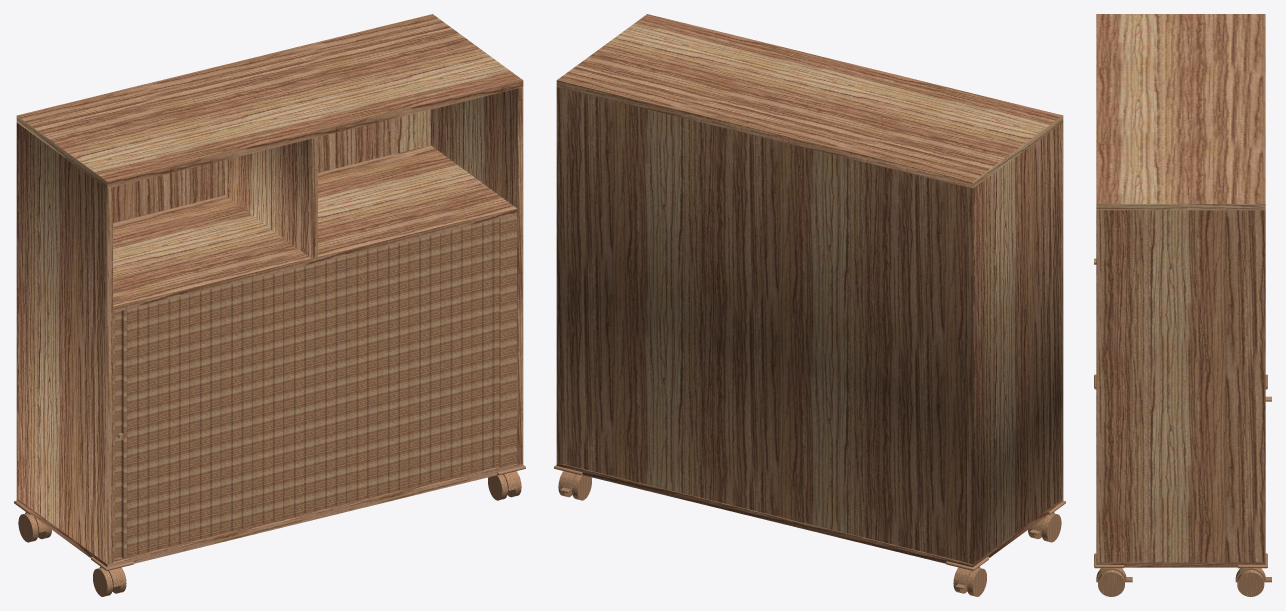
The model's file is rollboard_3oh_side_open_opening_shutter_119x45_finala.fbx.
The picture shows the model from 3 angles, left to right: view 1: azimuth 30°, elevation 25°; view 2: azimuth 150°, elevation 25°; view 3: azimuth 270°, elevation 25°; orthographic projection. The views are drawn at different scales.
Parts seen in each view (by area): view 1: obudowa_mesh, M8.I13, M8.I14, M8.I16, M8.I19, M8.I15, M8.I8, M8.I11, M8.I17, M8.I12, M8.I9, M8.I10 (+4 smaller); view 2: obudowa_mesh, plastik_mesh; view 3: obudowa_mesh, plastik_mesh.
Boxes of the visible parts, x1,y1,x2,y2 form: obudowa_mesh: (16,14,523,567); M8.I13: (220,279,252,534); M8.I14: (252,271,283,526); M8.I16: (315,256,346,511); M8.I19: (377,240,408,495); M8.I15: (283,263,314,518); M8.I8: (440,225,471,480); M8.I11: (158,294,189,549); M8.I17: (346,248,377,503); M8.I12: (189,286,220,541); M8.I9: (409,233,440,488); M8.I10: (127,302,157,557); obudowa_mesh: (556,14,1063,567); plastik_mesh: (554,465,1065,596); obudowa_mesh: (1096,14,1265,567); plastik_mesh: (1094,374,1271,596).
Size of the model in its own units: 121 by 115 by 47.2.
